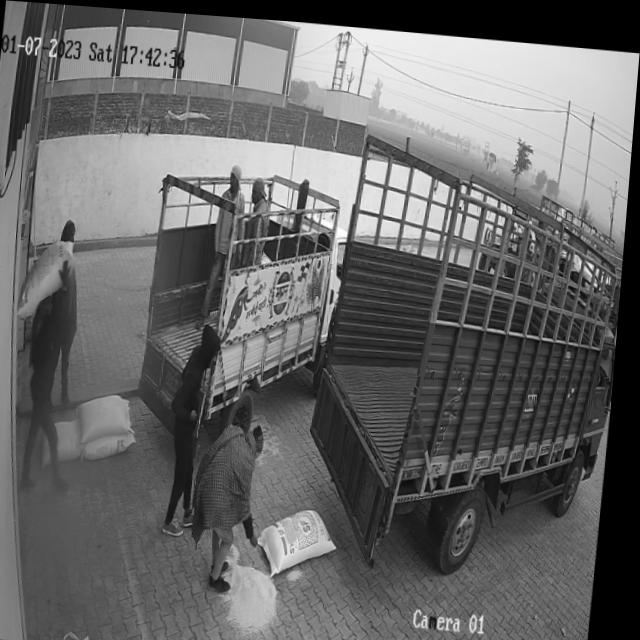sack: (264, 499, 348, 577), (22, 235, 79, 322), (80, 389, 138, 443), (47, 413, 91, 469), (89, 427, 143, 462)
